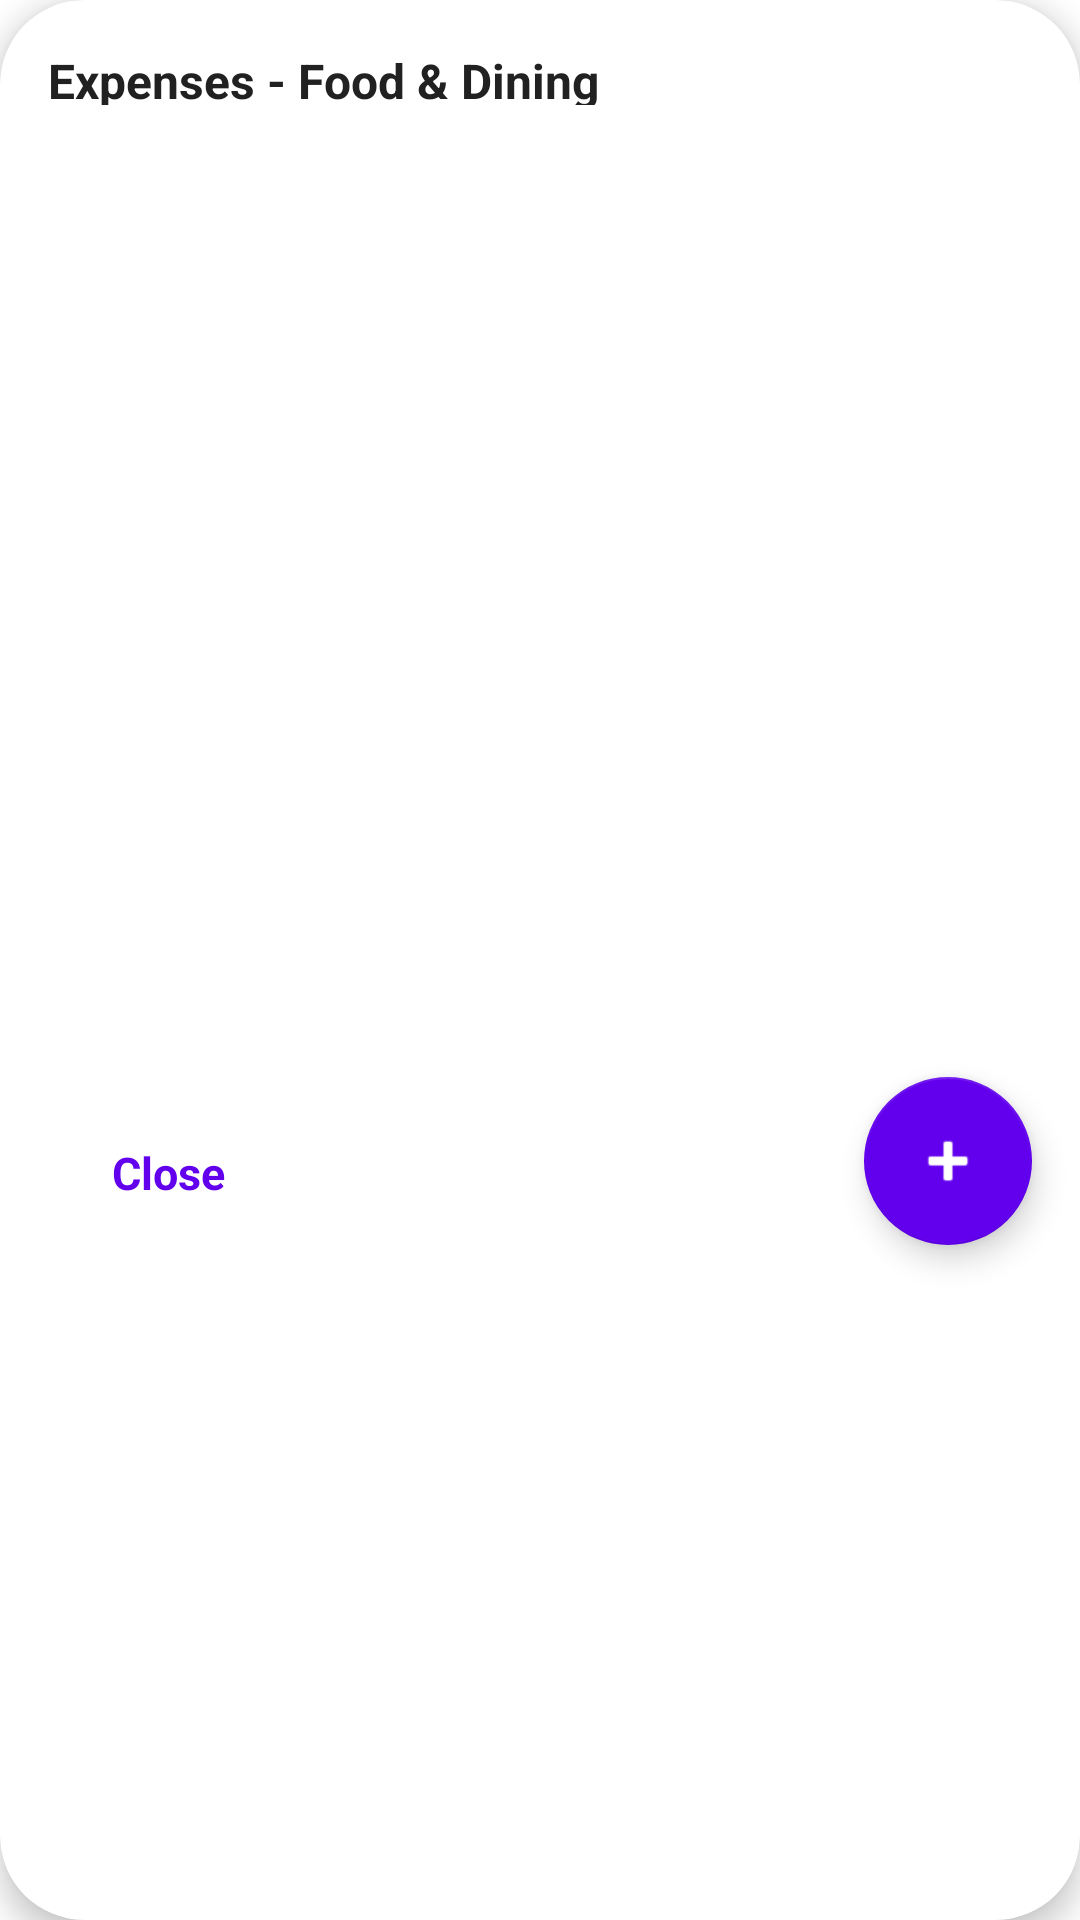

Icons on this 1080x1920 Android screen, each with the point to tap as point (x, y):
Add expense: point (948, 1161)
